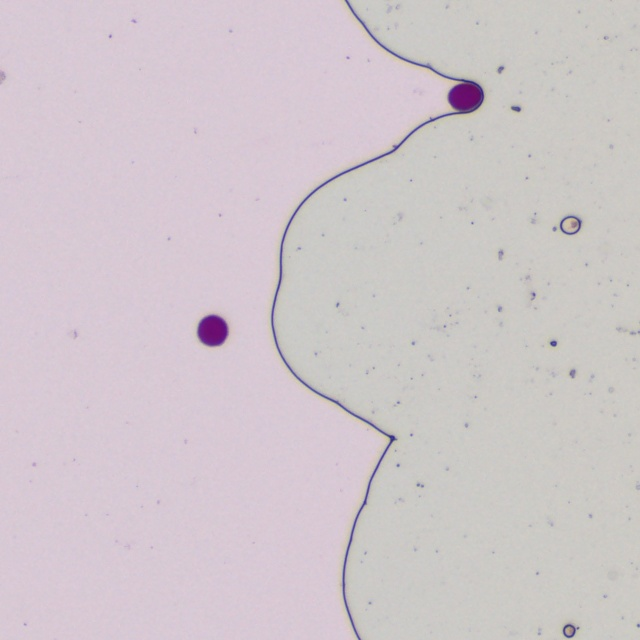viable: (198, 315, 228, 346), (449, 83, 482, 110)
